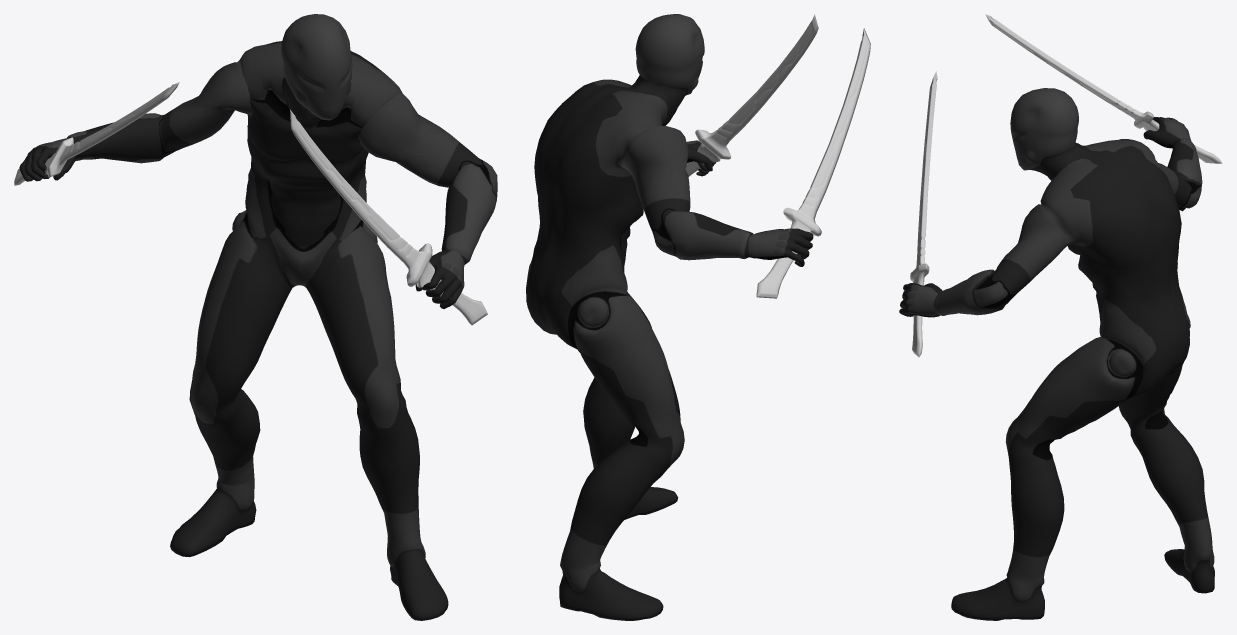
3 views of the same model, side by side, from view 1: azimuth 30°, elevation 25°; view 2: azimuth 150°, elevation 25°; view 3: azimuth 270°, elevation 25° (orthographic). The views are drawn at different scales.
Parts seen in each view (by area): view 1: Cyborg_Ninja_Killer, Sword_l, Sword_l001; view 2: Cyborg_Ninja_Killer, Sword_l001, Sword_l; view 3: Cyborg_Ninja_Killer, Sword_l, Sword_l001.
Part boxes in pixels (x1,y1,x2,y2): Cyborg_Ninja_Killer: (19, 14, 497, 620); Sword_l: (290, 109, 487, 325); Sword_l001: (14, 82, 179, 185); Cyborg_Ninja_Killer: (526, 14, 813, 620); Sword_l001: (756, 28, 870, 298); Sword_l: (685, 14, 818, 176); Cyborg_Ninja_Killer: (899, 88, 1214, 620); Sword_l: (910, 71, 937, 357); Sword_l001: (985, 14, 1222, 163).
Size of the model in its own units: 110 by 165 by 97.51.
